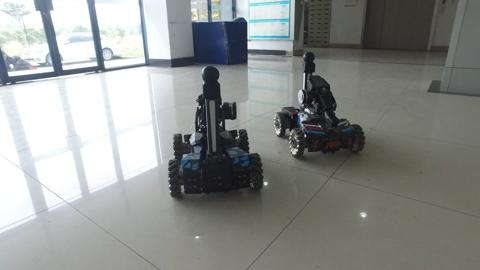car: (15, 22, 149, 66)
chariot: (161, 63, 274, 200), (271, 46, 367, 165)
